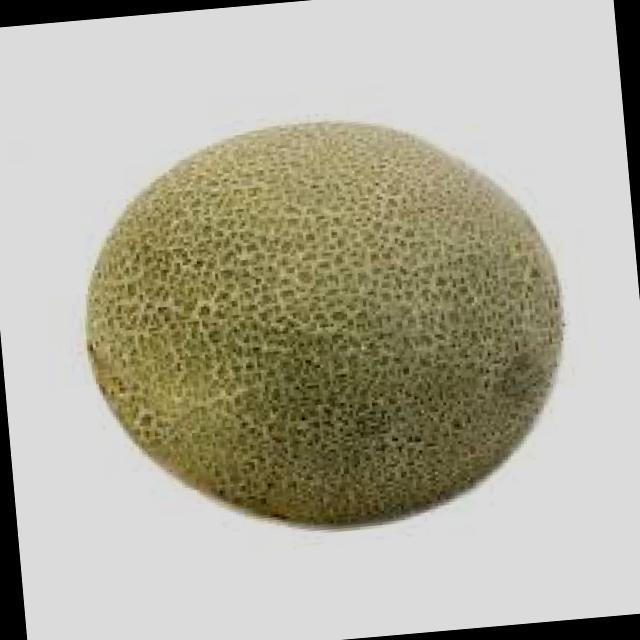cantaloupe: (69, 100, 581, 550)
